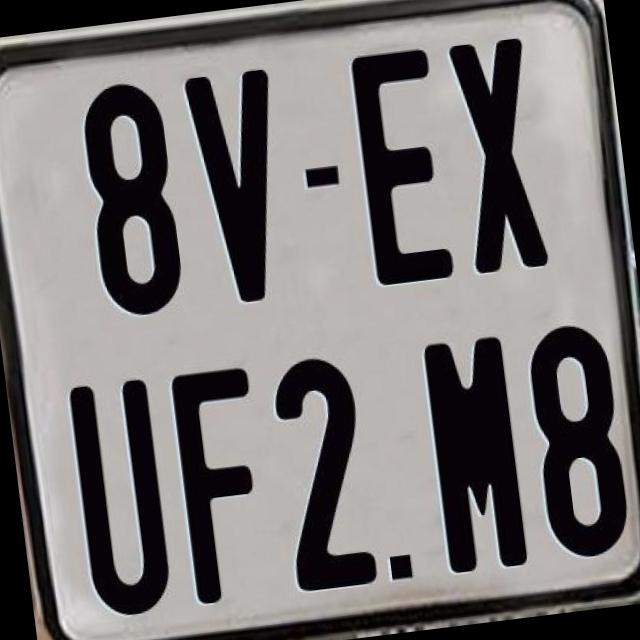2: (267, 352, 376, 600)
8: (524, 318, 637, 566), (75, 79, 185, 321)
E: (348, 42, 454, 286)
F: (170, 364, 282, 606)
M: (422, 331, 534, 576)
U: (64, 376, 172, 624)
V: (178, 65, 290, 306)
X: (447, 32, 555, 270)
